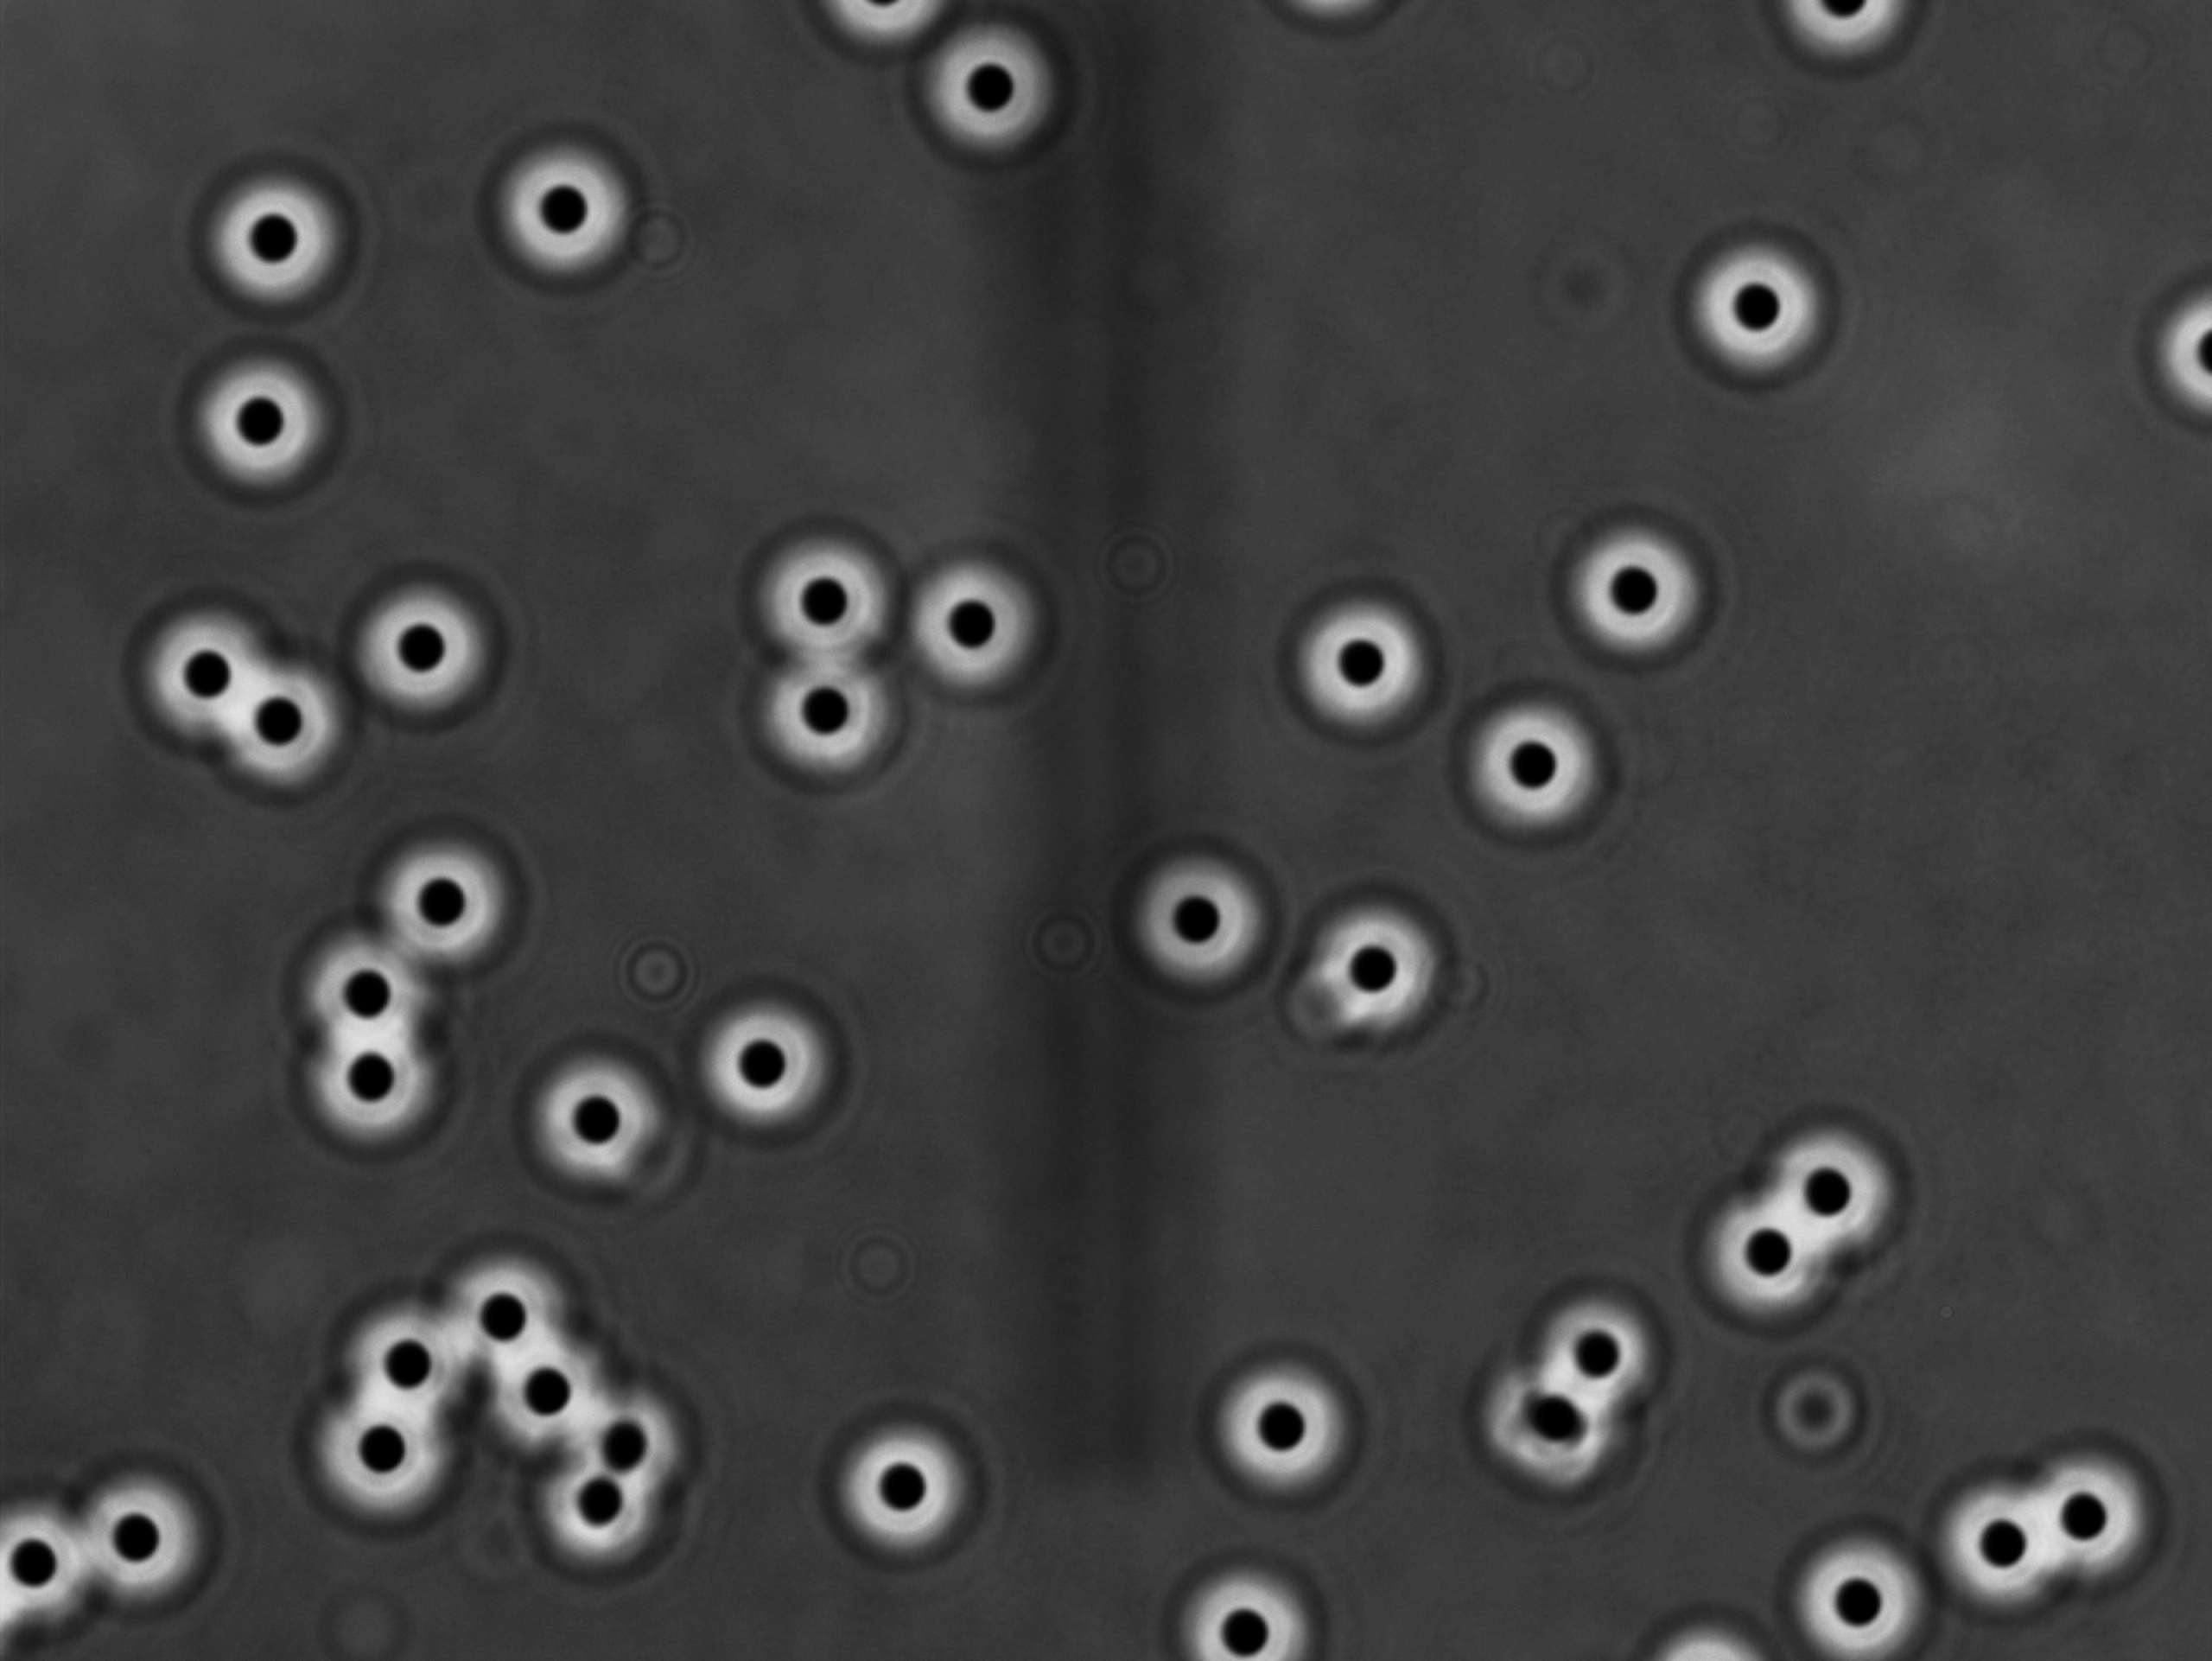depth:-40: (141, 312, 366, 509), (673, 968, 862, 1148), (1277, 886, 1462, 1068), (722, 626, 914, 801), (112, 574, 297, 754), (476, 127, 668, 298), (504, 1031, 689, 1207), (883, 550, 1073, 721), (1106, 827, 1280, 1010), (1202, 1340, 1376, 1521), (1669, 225, 1849, 400), (1669, 1171, 1844, 1350), (1748, 1090, 1924, 1267), (345, 818, 534, 982), (1444, 668, 1612, 851), (898, 10, 1085, 174), (1551, 508, 1732, 675), (272, 1012, 461, 1171), (741, 497, 911, 672), (335, 560, 506, 731), (1280, 583, 1451, 754), (2029, 1418, 2196, 1591), (281, 907, 459, 1070), (822, 1403, 989, 1569), (61, 1466, 232, 1623), (192, 159, 354, 323), (466, 1321, 628, 1478), (563, 1370, 727, 1520), (1767, 1525, 1947, 1661), (1926, 1462, 2074, 1626), (319, 1284, 485, 1427), (199, 651, 351, 804), (297, 1394, 448, 1548), (443, 1242, 602, 1387), (539, 1452, 673, 1596)
